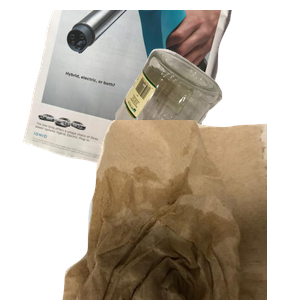glass: (110, 46, 300, 205)
paper: (20, 10, 244, 190)
plastic: (86, 163, 282, 300)
trash: (60, 120, 300, 300)
